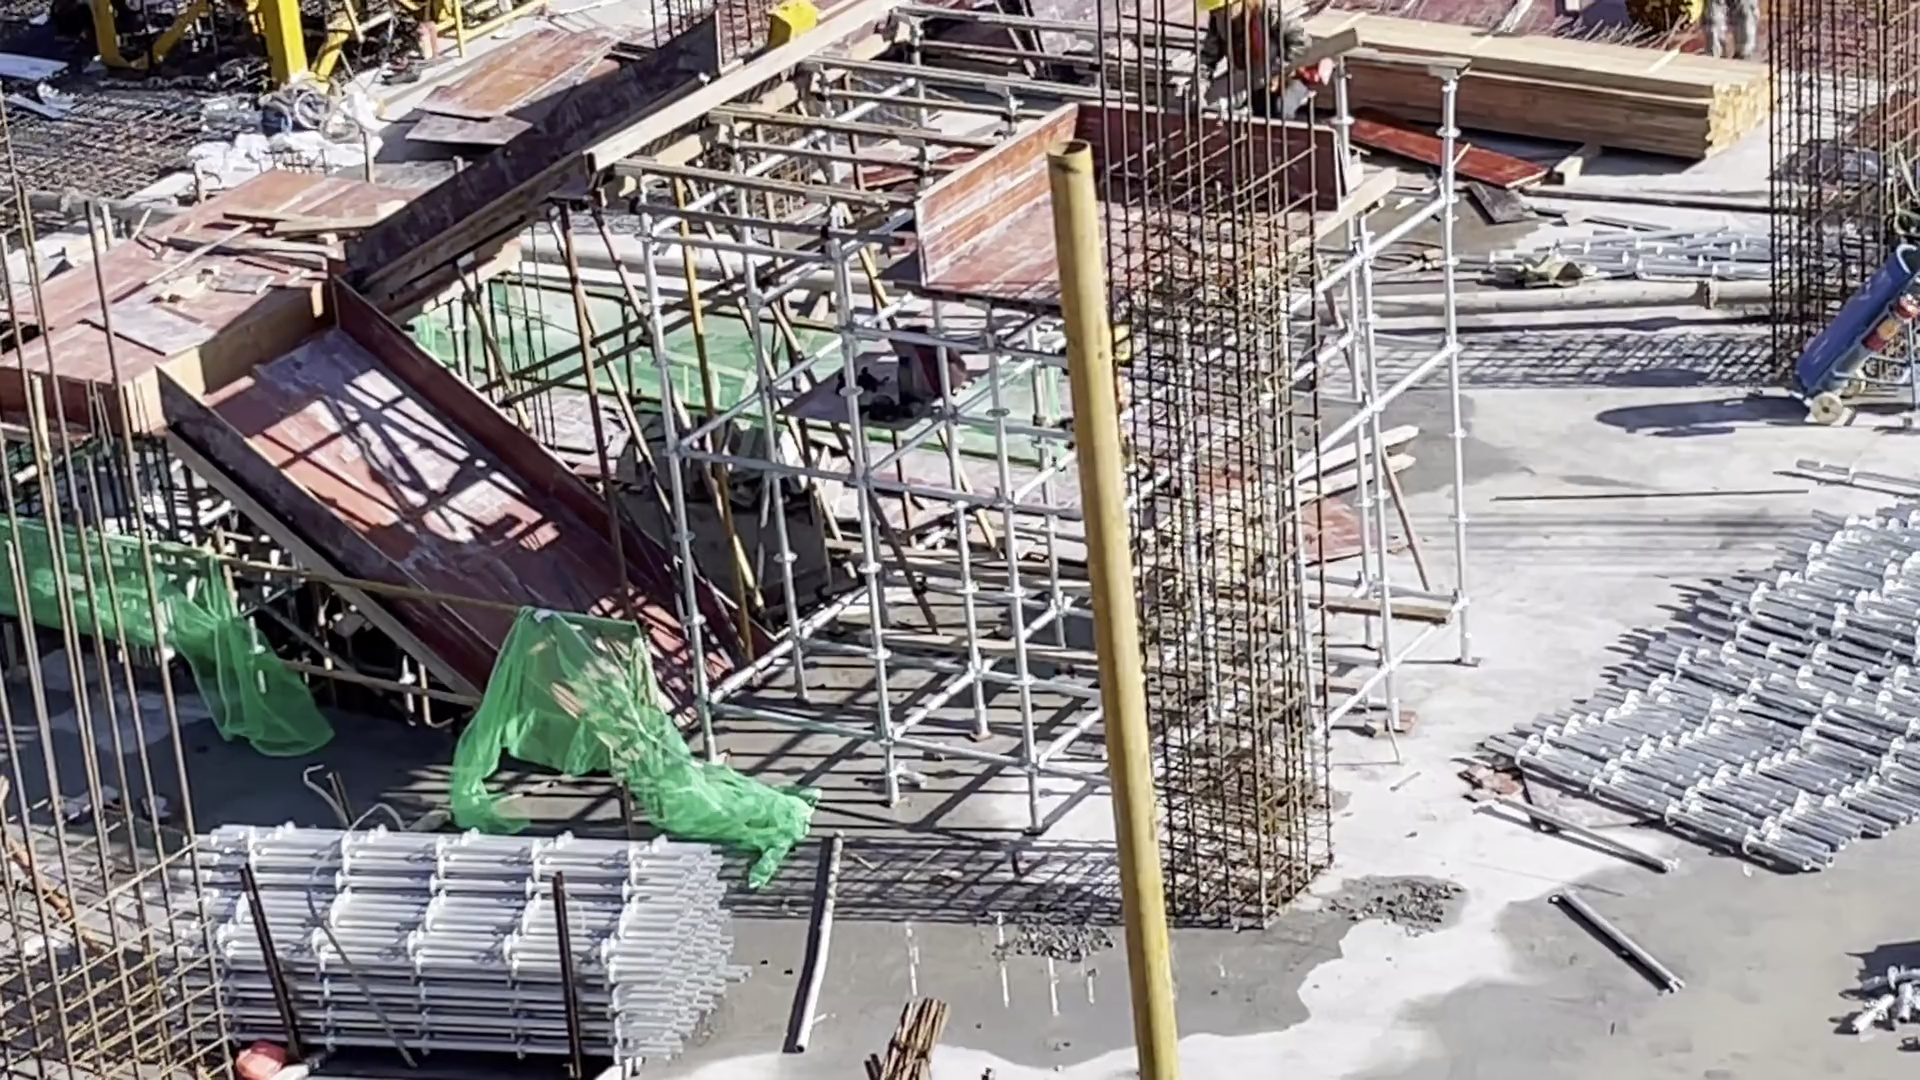person: (1193, 1, 1310, 113)
scaffold: (1483, 501, 1920, 871), (161, 815, 758, 1055)
vest: (1224, 14, 1276, 84)
wood: (1298, 10, 1773, 164)
